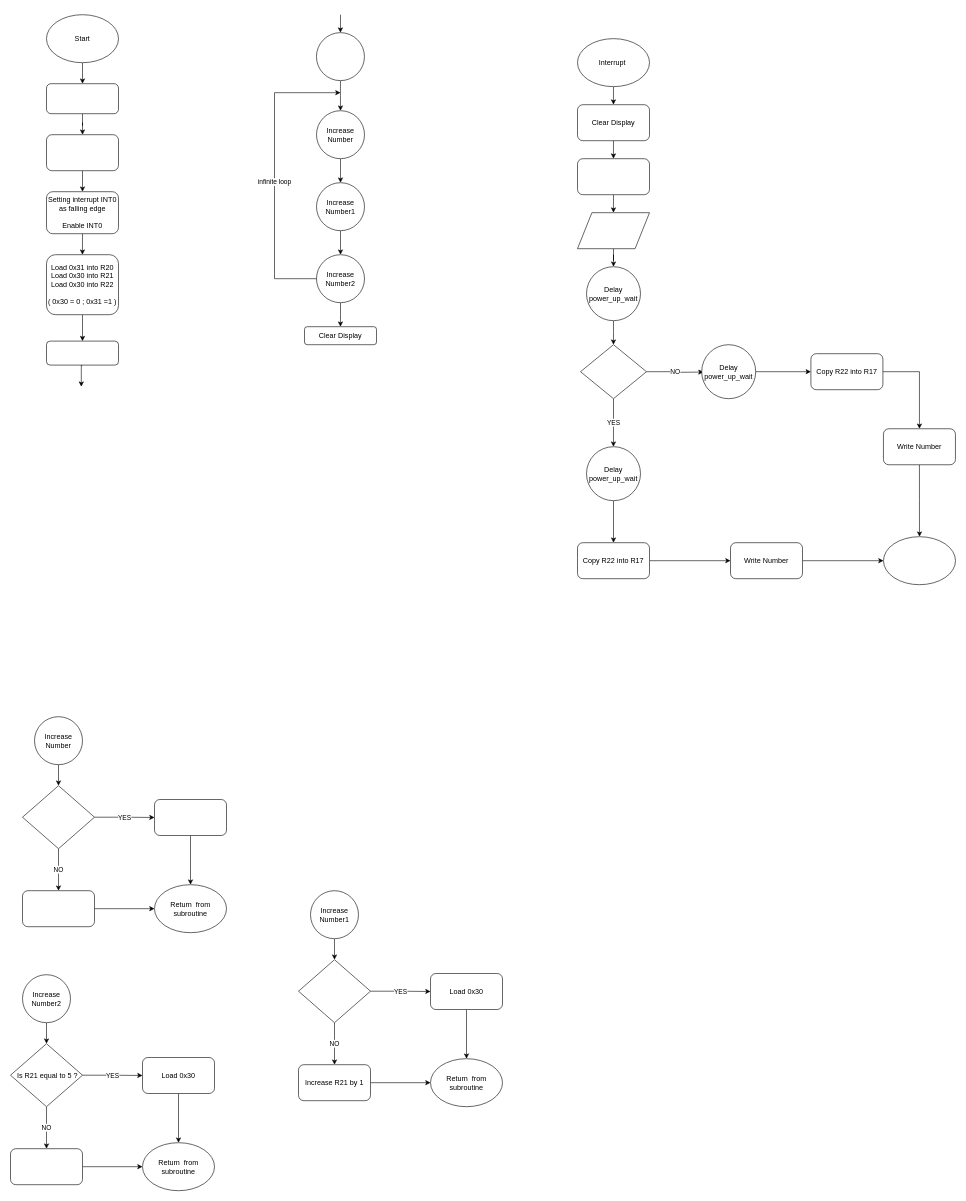
Some shapes in this 966 by 1201 pixel diagram are drawn without their labels. Each missing label, with the centre of its shape:
"Copy R20 into R17" belongs at [613,176].
"Enable Global Interrupt" belongs at [82,352].
"Increase R20 by 1" belongs at [58,908].
"Increase R22 by 1" belongs at [46,1166].
"Initialise Display" belongs at [340,56].
"Initialise Stack Pointer (R16)" belongs at [82,98].
"Is R20 equal to 7?" belongs at [58,817].
"Is R20 less than 7?" belongs at [613,371].
"Is R21 equal to 9?" belongs at [334,991].
"Load 0x31" belongs at [190,817].
"PORTE as output (LCD) PORTD as output" belongs at [82,152].
"RETI" belongs at [919,560].
"Write Random Number" belongs at [613,230].
